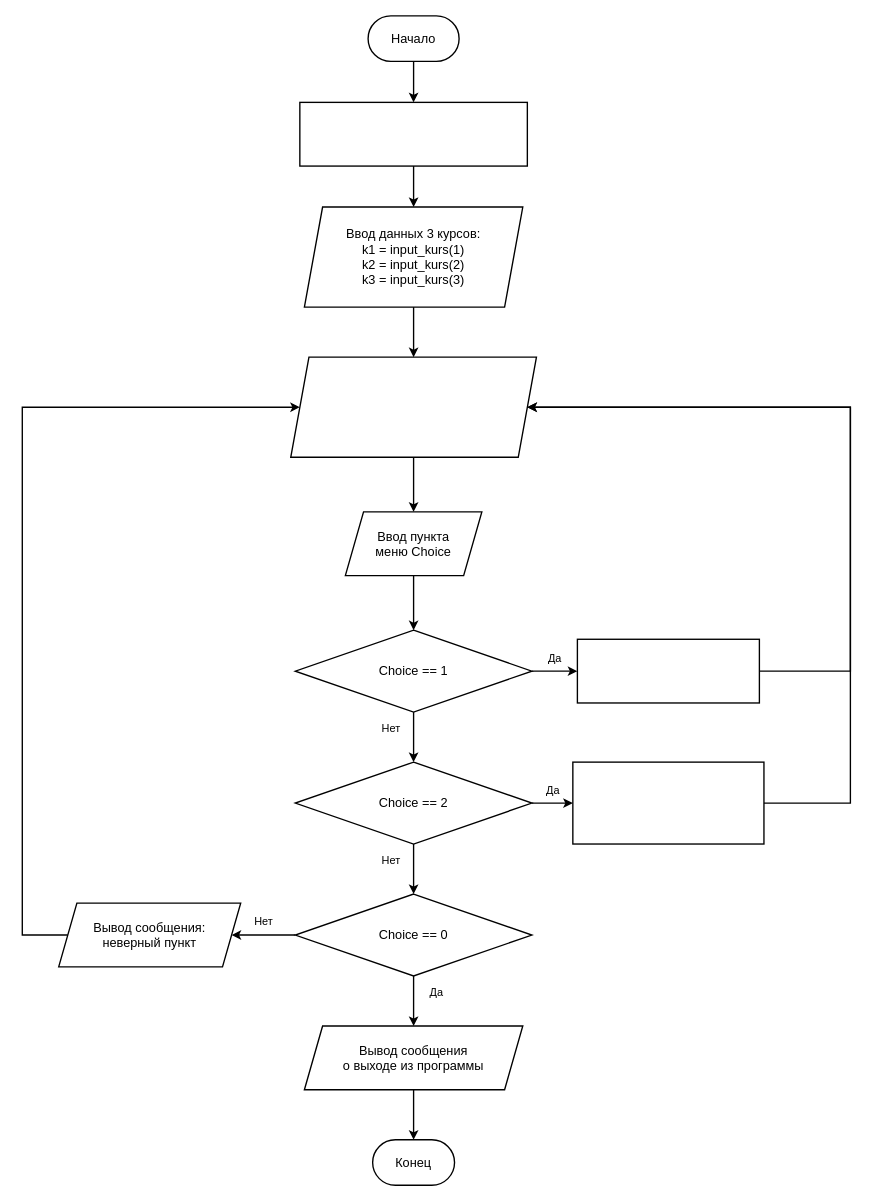
Image size: 875x1202. Some labels were removed from this diagram. The shapes that lost their labels are listed below. From the top down, each one's centre as x and y in pixels, then its label:
At (413,133): "Объявление переменных: k1, k2, k3, Choice".
At (413,407): "Вывод меню операций: 1 - Курсы выше среднего 2 - Ср. продолжительность 0 - Выход".
At (668,670): "Вызов функции print_kurs(k1, k2, k3)".
At (668,802): "avg_hours = sr_prod_kurs(k1,k2,k3) Вывод avg_hours".
